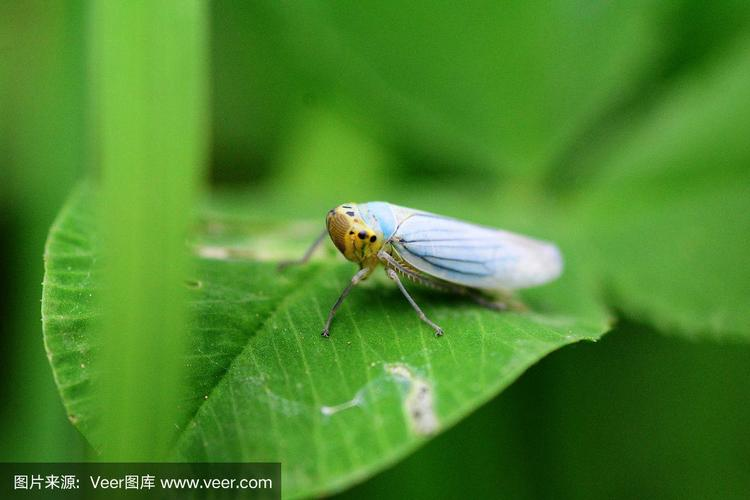Cicadellidae: (316, 199, 564, 331)
